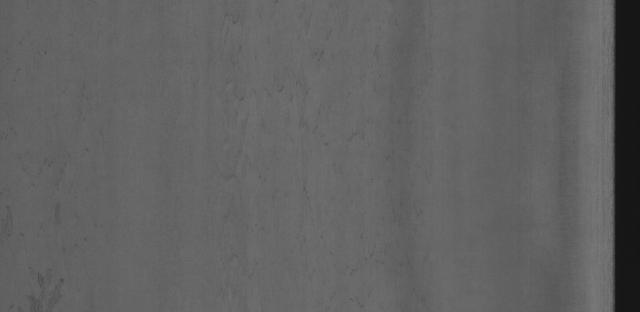silk_spot: (215, 28, 422, 306)
water_spot: (21, 256, 81, 312)
